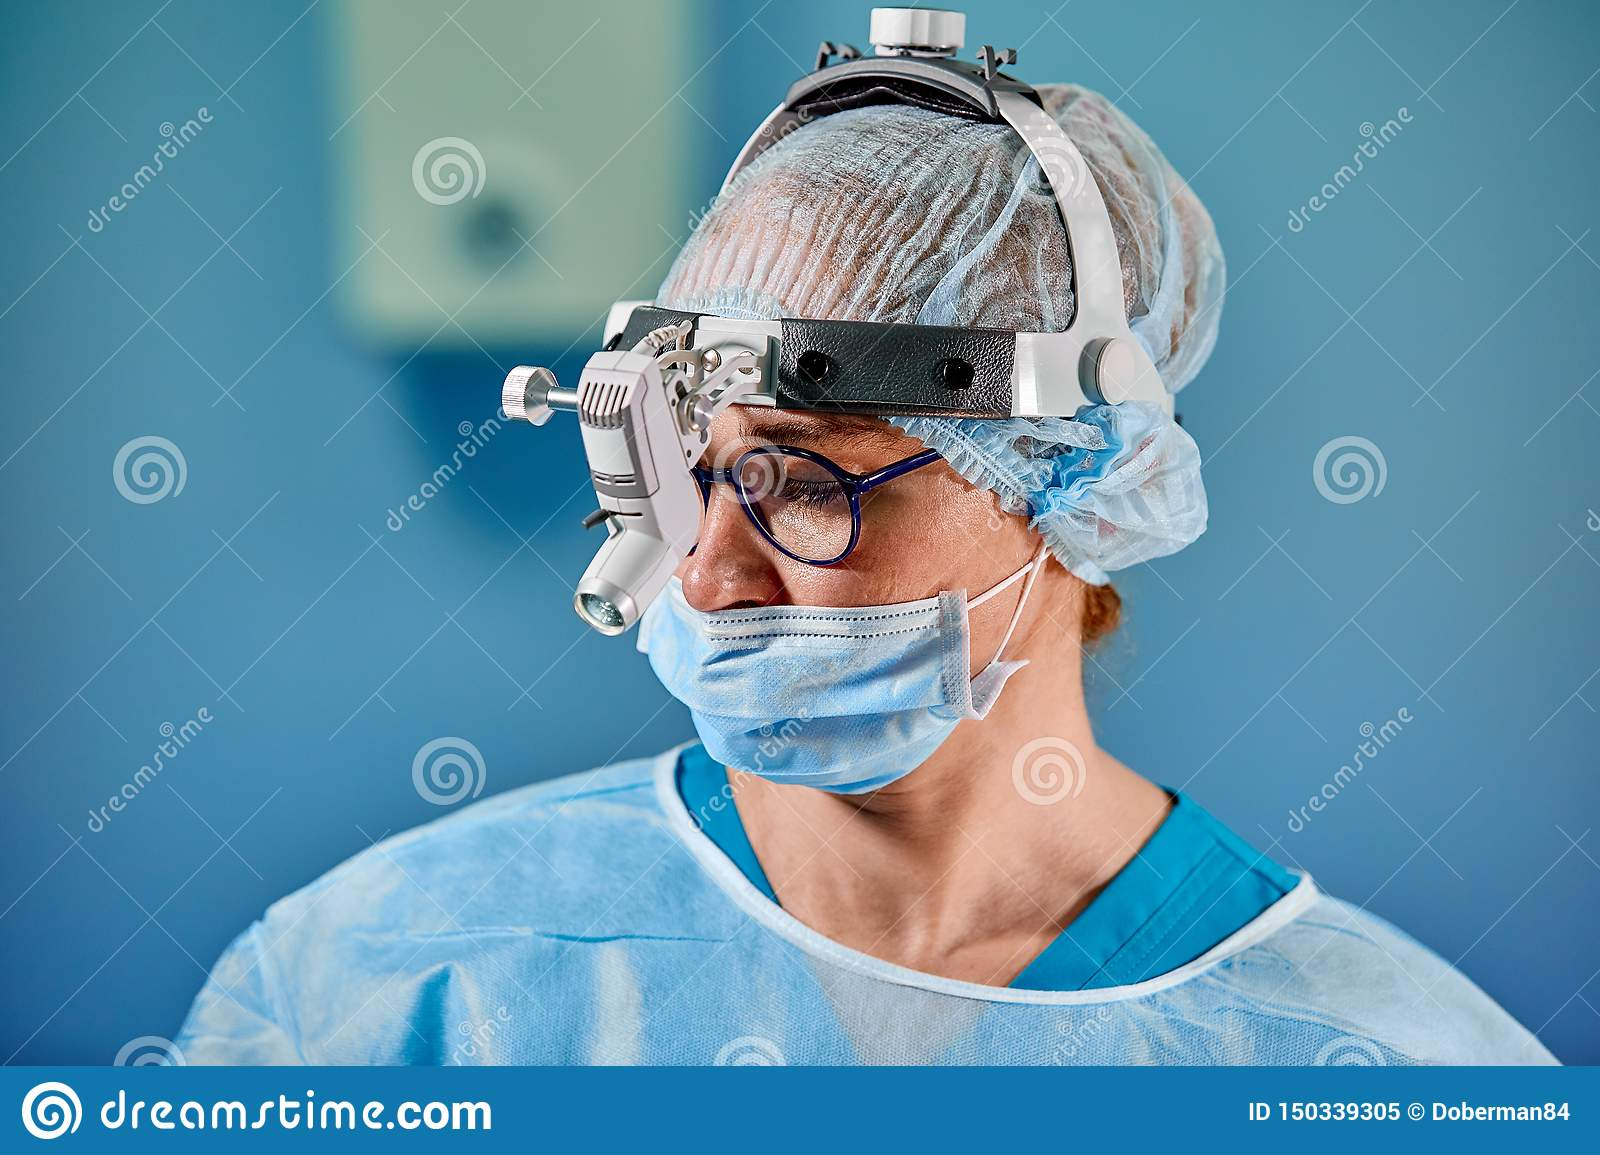mask: (605, 581, 1043, 826)
